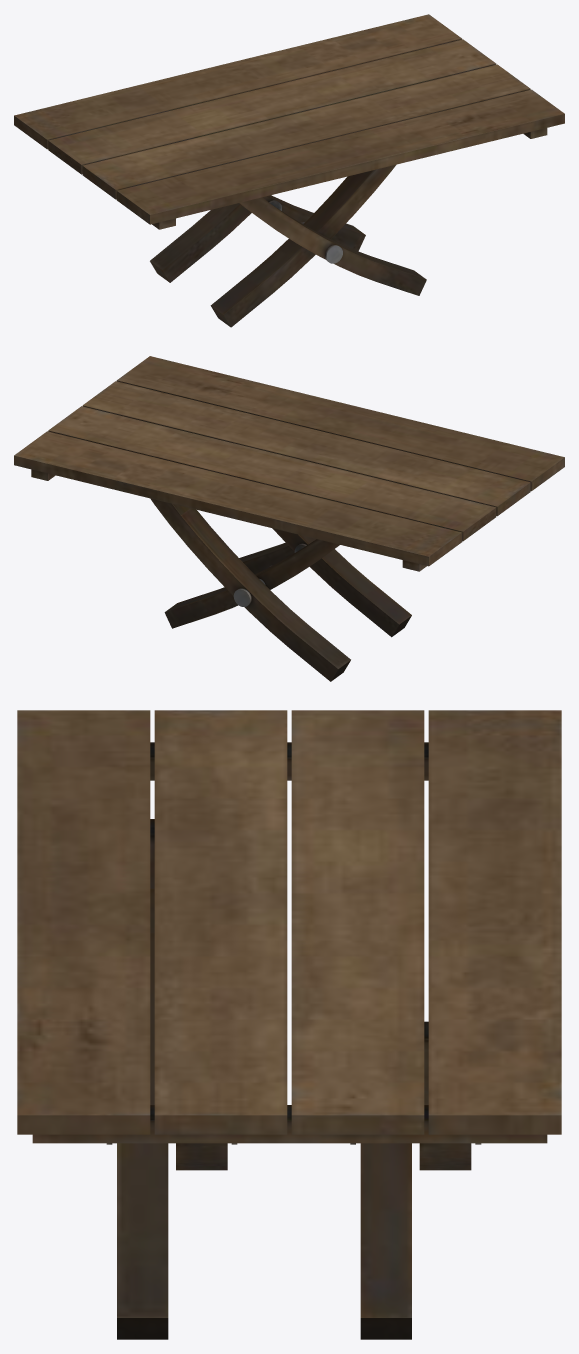
The model's file is SM_table_01.glb.
3 views of the same model, one above another, from view 1: azimuth 30°, elevation 25°; view 2: azimuth 150°, elevation 25°; view 3: azimuth 270°, elevation 25° (orthographic). The views are drawn at different scales.
Visible parts, largest first — view 1: SM_table_01; view 2: SM_table_01; view 3: SM_table_01.
Boxes of the visible parts, left/top/right/bottom form: SM_table_01: left=14, top=14, right=564, bottom=327; SM_table_01: left=14, top=356, right=564, bottom=681; SM_table_01: left=17, top=710, right=561, bottom=1339.
Bounding box in the file's own units: 1.84 × 0.723 × 1.04.
1 material, 1 textured.
